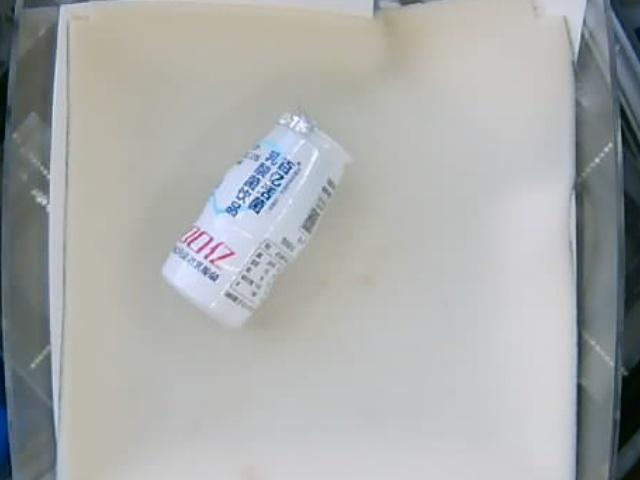Bottle: (159, 109, 352, 329)
